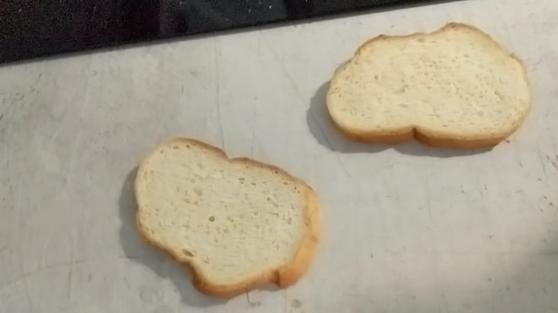white_bread: (133, 138, 319, 295), (322, 22, 530, 145)
